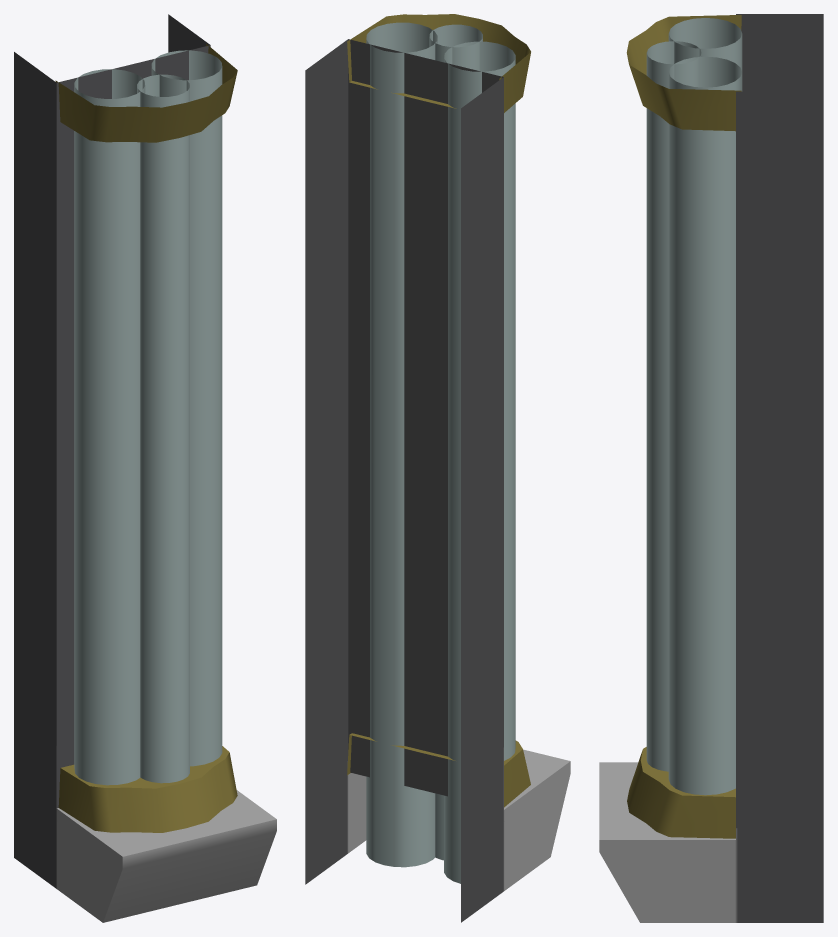
Rendered from Pillar Textured.fbx.
The picture shows the model from 3 angles, left to right: view 1: azimuth 30°, elevation 25°; view 2: azimuth 150°, elevation 25°; view 3: azimuth 270°, elevation 25°; orthographic projection. The views are drawn at different scales.
Visible parts, largest first — view 1: Pillar; view 2: Pillar; view 3: Pillar.
Part boxes in pixels (x1,y1,x2,y2): Pillar: (14,14,276,922); Pillar: (305,14,570,922); Pillar: (599,14,823,922).
Size of the model in its own units: 2 by 10 by 2.44.
